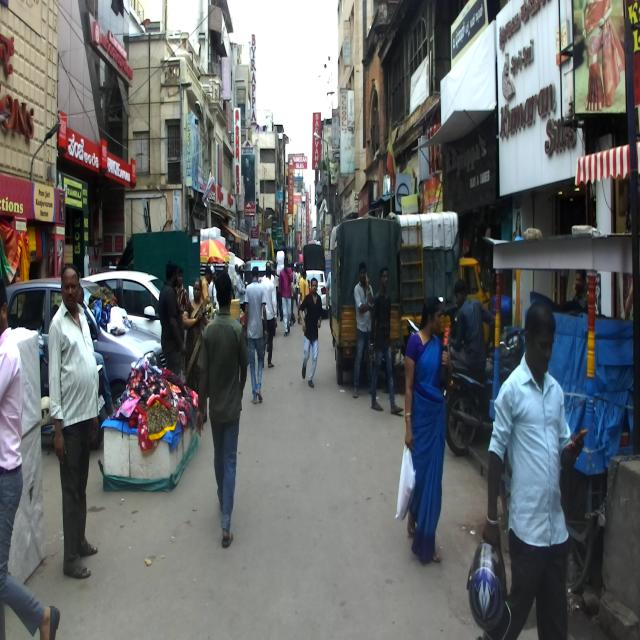person ahead at: (489, 293, 590, 640), (48, 261, 112, 585), (194, 273, 248, 544), (402, 299, 458, 555)
